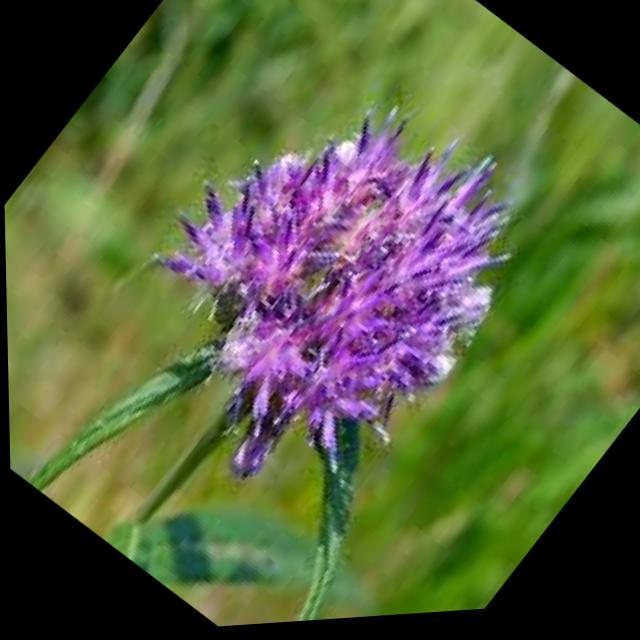Flower: (73, 23, 578, 553)
